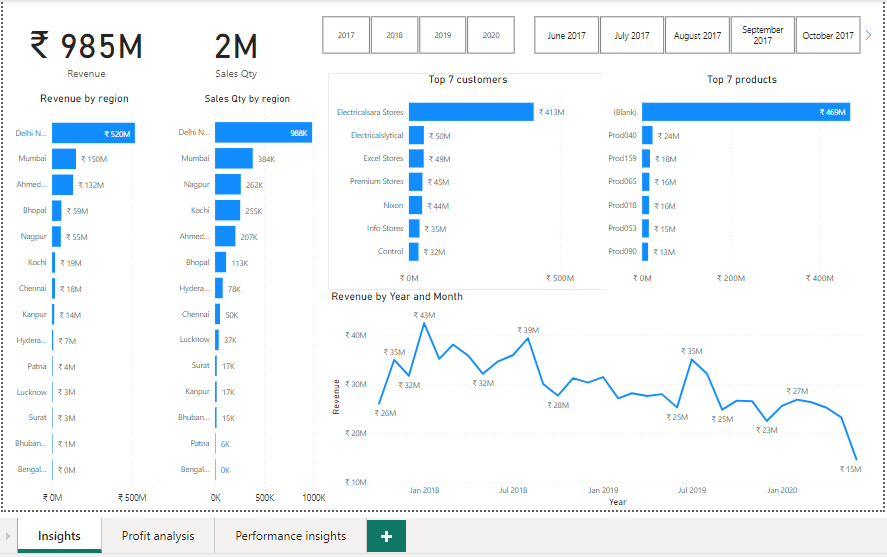

This screenshot's page, from the dashboard's own definition file:
{"tool":"powerbi","page":{"name":"Insights","canvas":[1380,800],"ordinal":0},"visuals":[{"type":"card","fields":{"Values":["base measures.Revenue"]},"box":[6.3,6.3,248.8,138.6],"z":0},{"type":"card","fields":{"Values":["base measures.Sales Qty"]},"box":[255.1,6.3,220.5,138.6],"z":1000},{"type":"barChart","title":"Revenue by region","fields":{"Y":["base measures.Revenue"],"Category":["sales markets.markets_name"]},"box":[0,144.9,255.1,655.1],"z":2000},{"type":"barChart","title":"Sales Qty by region","fields":{"Y":["base measures.Sales Qty"],"Category":["sales markets.markets_name"]},"box":[255.1,144.9,255.1,655.1],"z":3000},{"type":"slicer","fields":{"Values":["sales date.year"]},"box":[475.6,18.9,351.2,72.4],"z":4000},{"type":"slicer","fields":{"Values":["sales date.normalise cy date"]},"box":[807.9,18.9,560.6,72.4],"z":5000},{"type":"barChart","title":"Top 7 customers","fields":{"Y":["base measures.Revenue"],"Category":["sales customers.custmer_name"]},"box":[510.2,115,439.4,340.2],"z":6000},{"type":"barChart","title":"Top 7 products","fields":{"Y":["base measures.Revenue"],"Category":["sales products.product_code"]},"box":[940.2,115,439.4,340.2],"z":7000},{"type":"lineChart","fields":{"Y":["base measures.Revenue"],"Category":["sales date.normalise cy date.Variation.Date Hierarchy.Year","sales date.normalise cy date.Variation.Date Hierarchy.Month"]},"box":[510.2,455.1,858.3,344.9],"z":8000}]}

Visuals, with their boxes on the page's 1380x800 design canvas (x1, y1, x2, y2). These are canvas units, not pixel positions in the 887x557 screenshot, which may show the page scaled, cropped or inside an application window:
card - base measures.Revenue: Rect(6, 6, 255, 145)
card - base measures.Sales Qty: Rect(255, 6, 476, 145)
"Revenue by region" barChart: Rect(0, 145, 255, 800)
"Sales Qty by region" barChart: Rect(255, 145, 510, 800)
slicer - sales date.year: Rect(476, 19, 827, 91)
slicer - sales date.normalise cy date: Rect(808, 19, 1368, 91)
"Top 7 customers" barChart: Rect(510, 115, 950, 455)
"Top 7 products" barChart: Rect(940, 115, 1380, 455)
lineChart - base measures.Revenue x sales date.normalise cy date.Variation.Date Hierarchy.Year: Rect(510, 455, 1368, 800)
